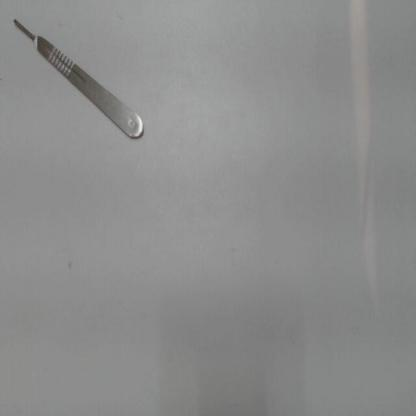No.3 BP Handle: (9, 12, 158, 155)
